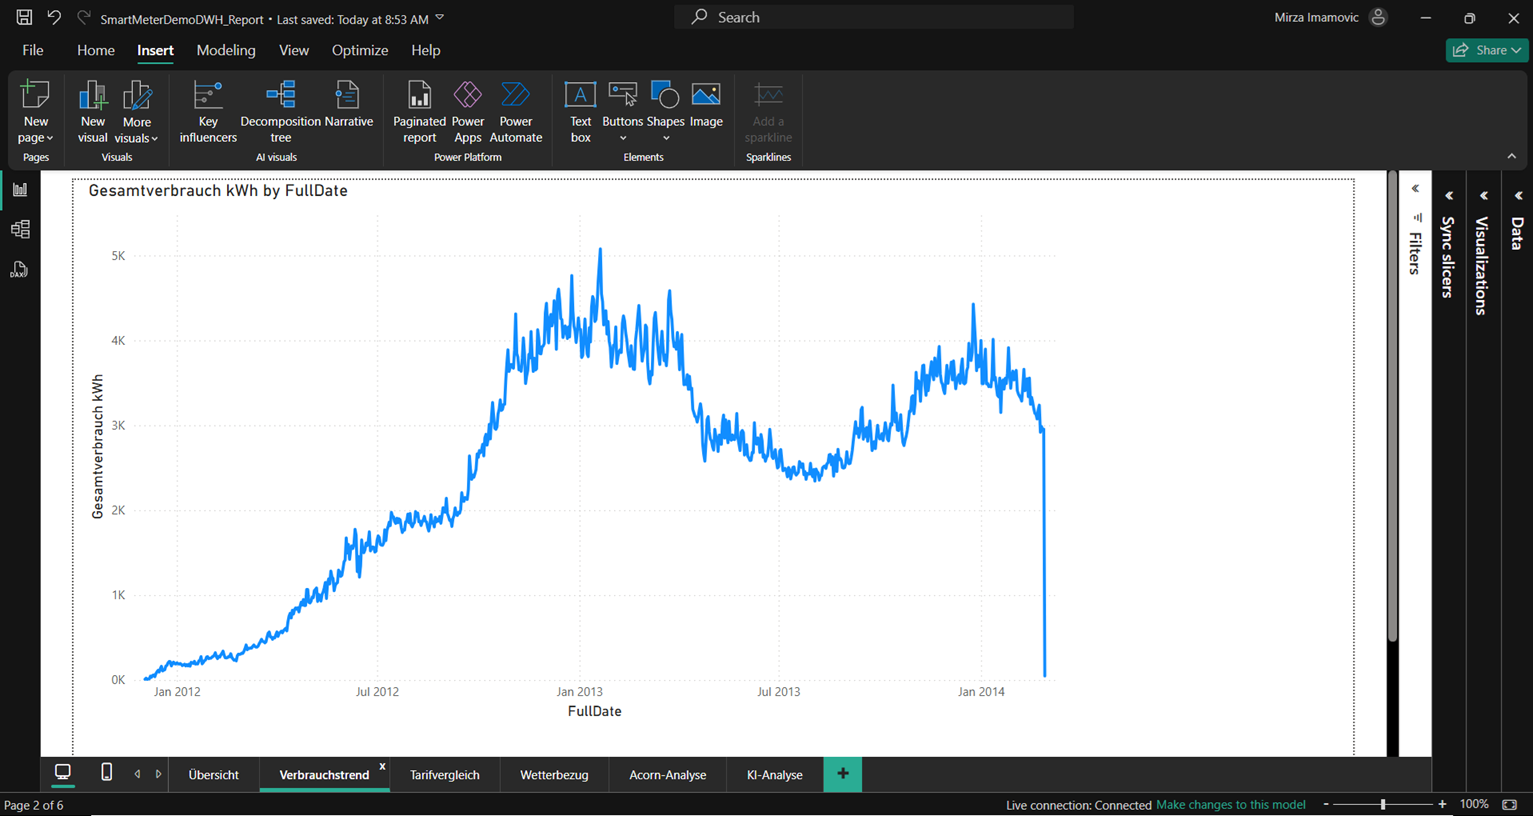

Layout of this report page (visuals, bound fields, positions):
{"tool":"powerbi","page":{"name":"Verbrauchstrend","canvas":[1280,720],"ordinal":1},"visuals":[{"type":"lineChart","fields":{"Category":["Dim_Date.FullDate"],"Y":["Fact_Consumption.Gesamtverbrauch kWh"]},"box":[10,0,990,544.4],"z":0}]}

Visuals, with their boxes on the page's 1280x720 design canvas (x1, y1, x2, y2). These are canvas units, not pixel positions in the 1533x816 screenshot, which may show the page scaled, cropped or inside an application window:
lineChart - Dim_Date.FullDate x Fact_Consumption.Gesamtverbrauch kWh: 10, 0, 1000, 544
